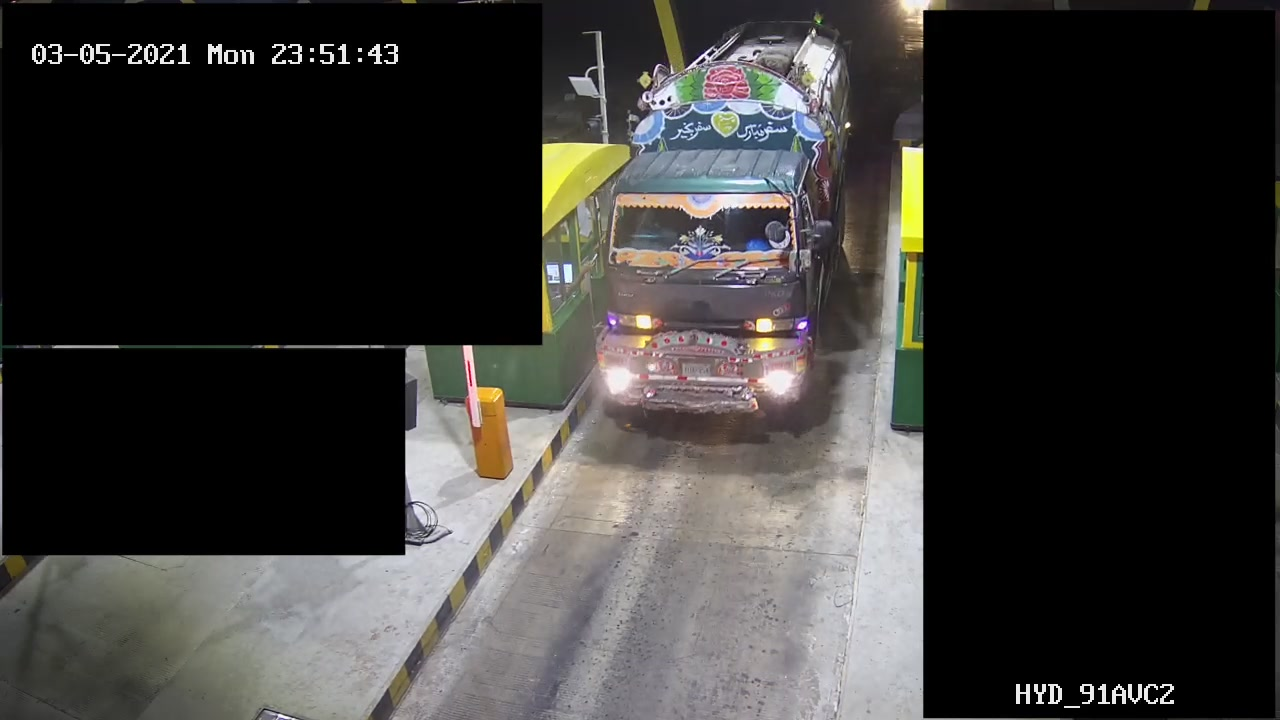F6: (593, 21, 853, 430)
